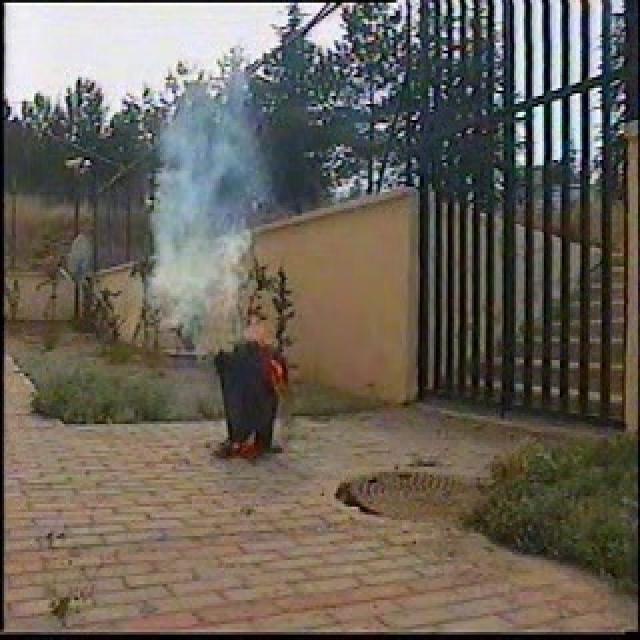Fire: (246, 296, 274, 344), (259, 342, 286, 384), (230, 436, 262, 460)
Smoke: (144, 63, 282, 362)
